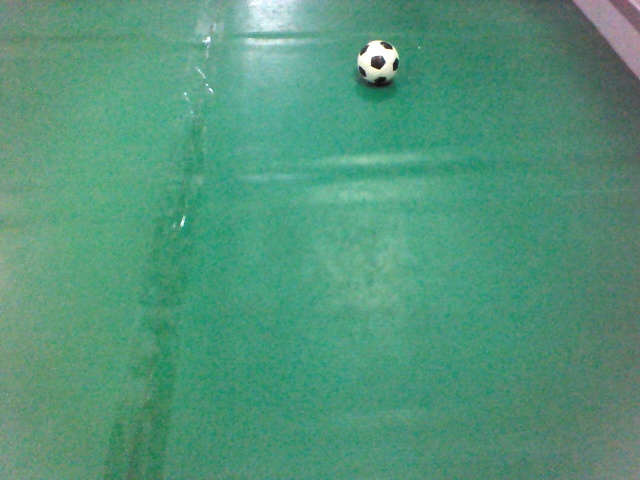ball: (351, 38, 402, 87)
